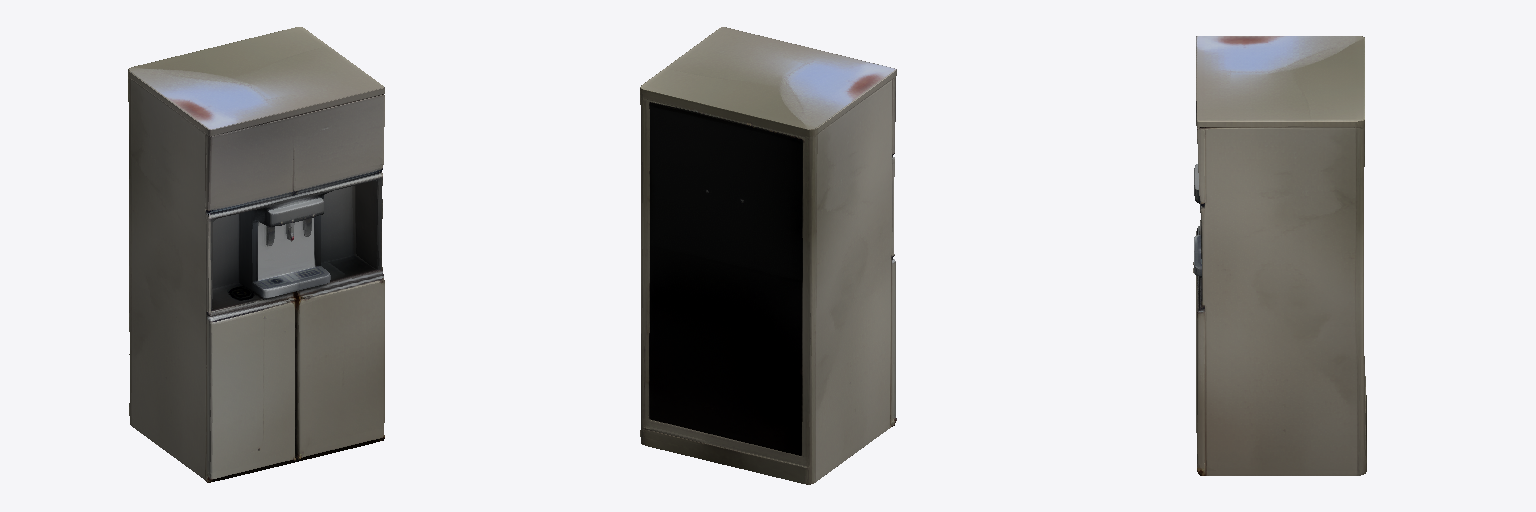
3 views of the same model, side by side, from view 1: azimuth 30°, elevation 25°; view 2: azimuth 150°, elevation 25°; view 3: azimuth 270°, elevation 25° (orthographic).
Parts seen in each view (by area): view 1: geometry_0; view 2: geometry_0; view 3: geometry_0.
Boxes of the visible parts, box(x1,y1,x2,y2) form: geometry_0: box(128, 27, 384, 482); geometry_0: box(640, 27, 896, 484); geometry_0: box(1193, 36, 1366, 475).
Bounding box in the file's own units: 0.5203 × 1 × 0.4432.
1 materials, 1 textured.